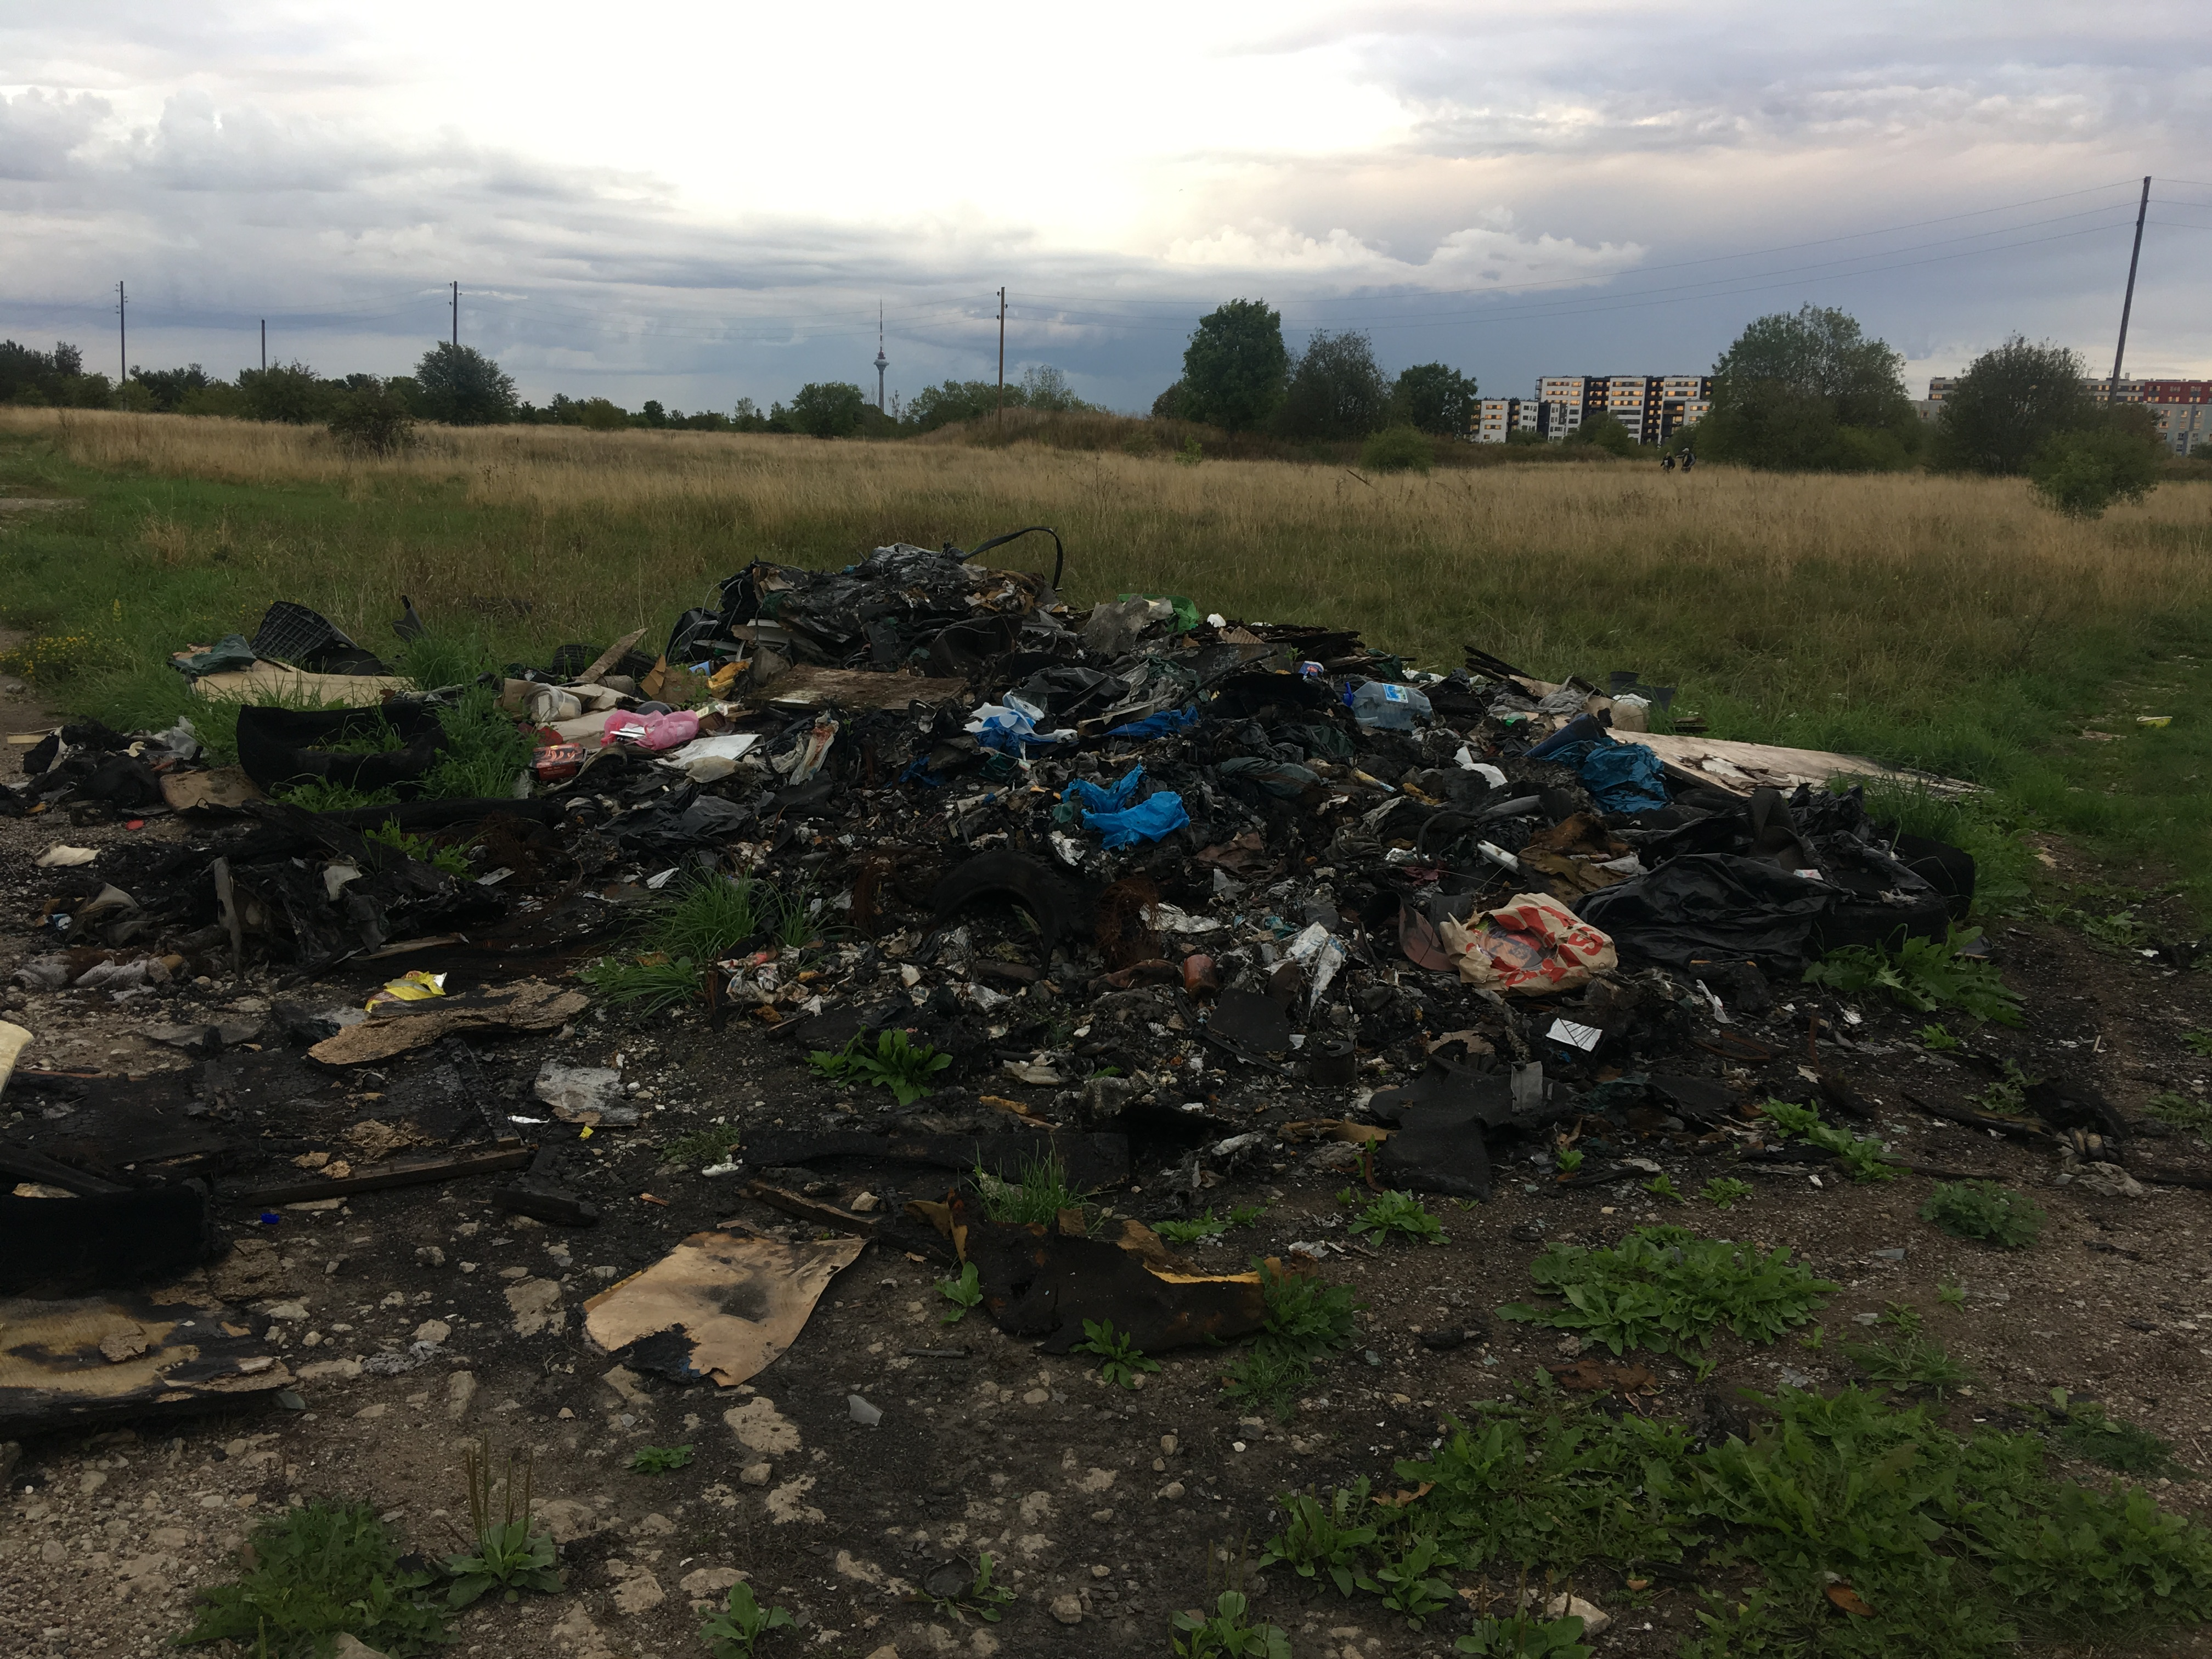trash: (35, 594, 1996, 1375)
